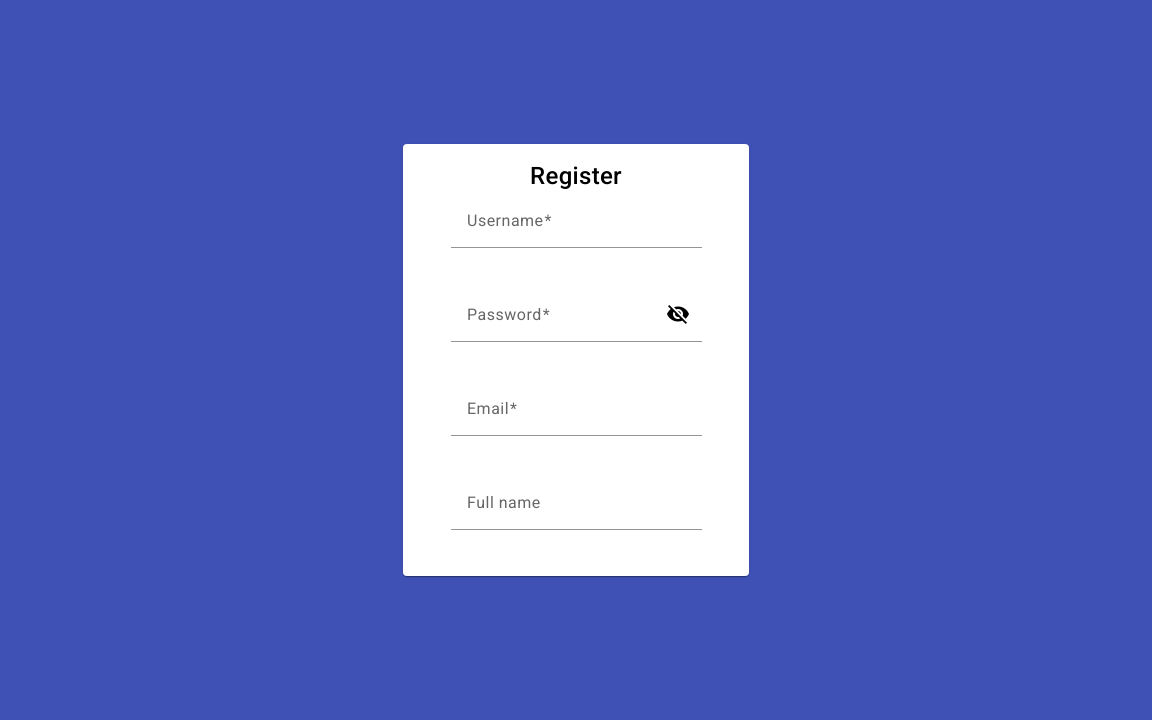
Test case: Register Page E2E Tests › should show alphanumeric error if username contains special characters
This screenshot has width=1152, height=720.
In the field with id "username-input": {"x": 577, "y": 228} x1=467 y1=216 x2=686 y2=240, type "abc!@"
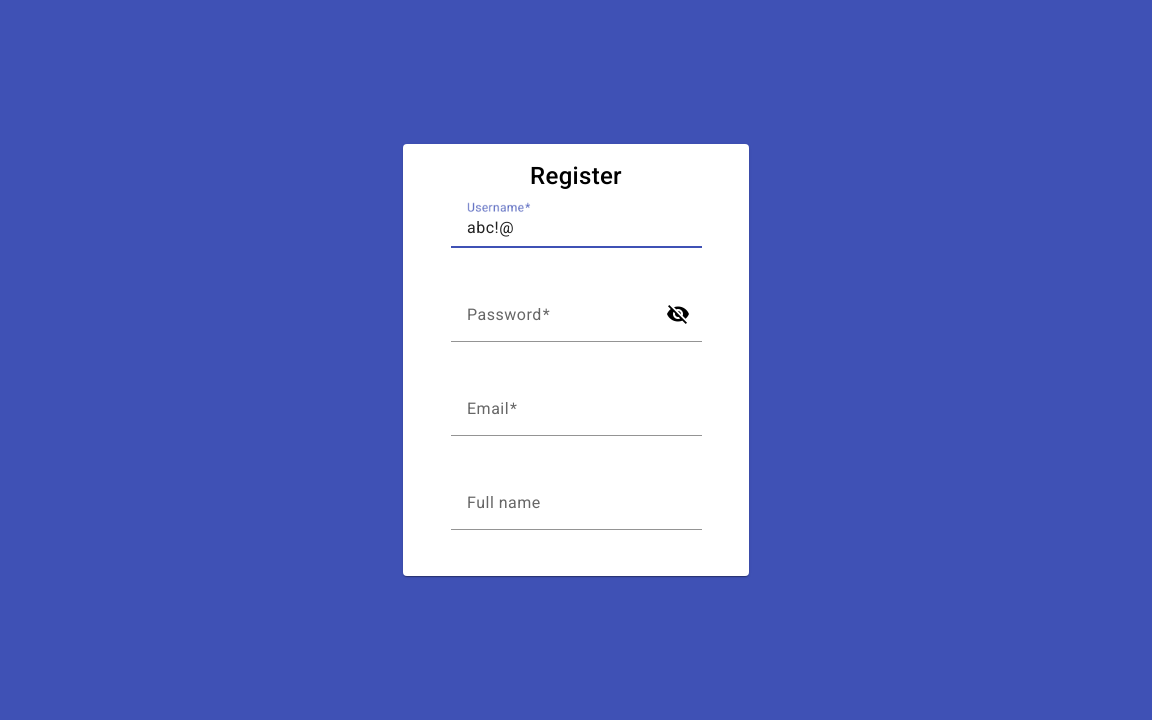
Click the element showing "Register Username Password Email Full name Register": {"x": 0, "y": 0} x1=0 y1=0 x2=1151 y2=719
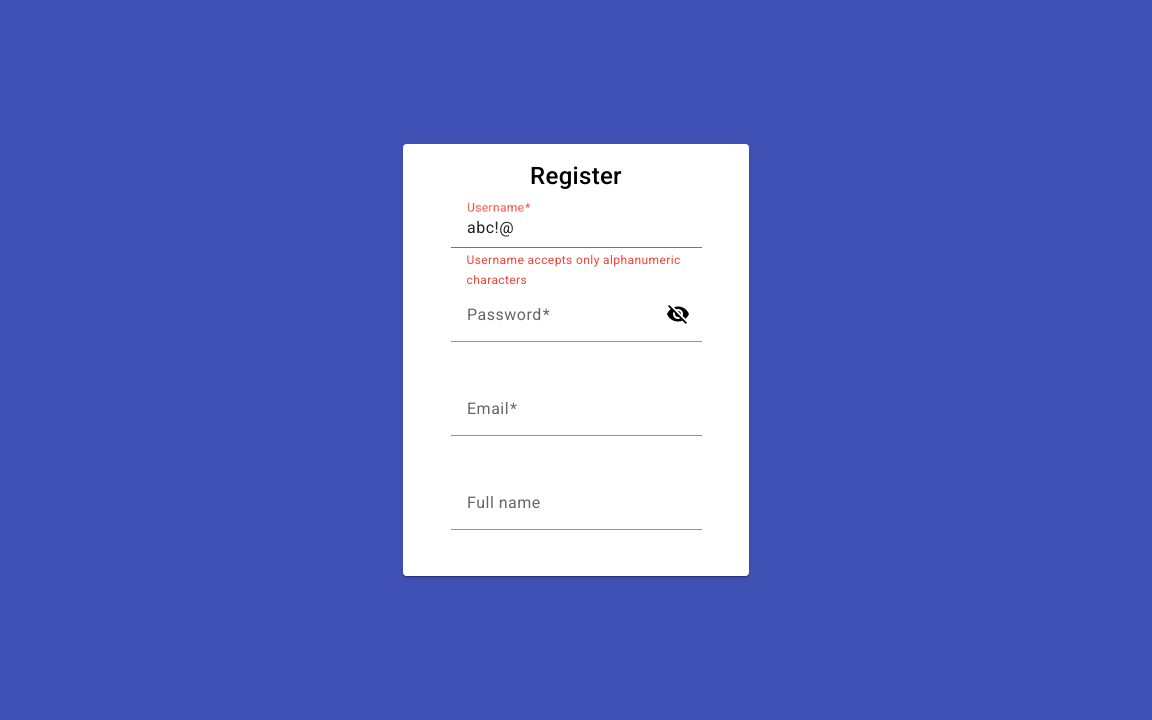
Now the text with id "username-error-message" reads "Username accepts only alphanumeric characters", box x1=467 y1=253 x2=681 y2=287
Now the text "Username accepts only alphanumeric characters" is shown, box x1=467 y1=248 x2=686 y2=290
